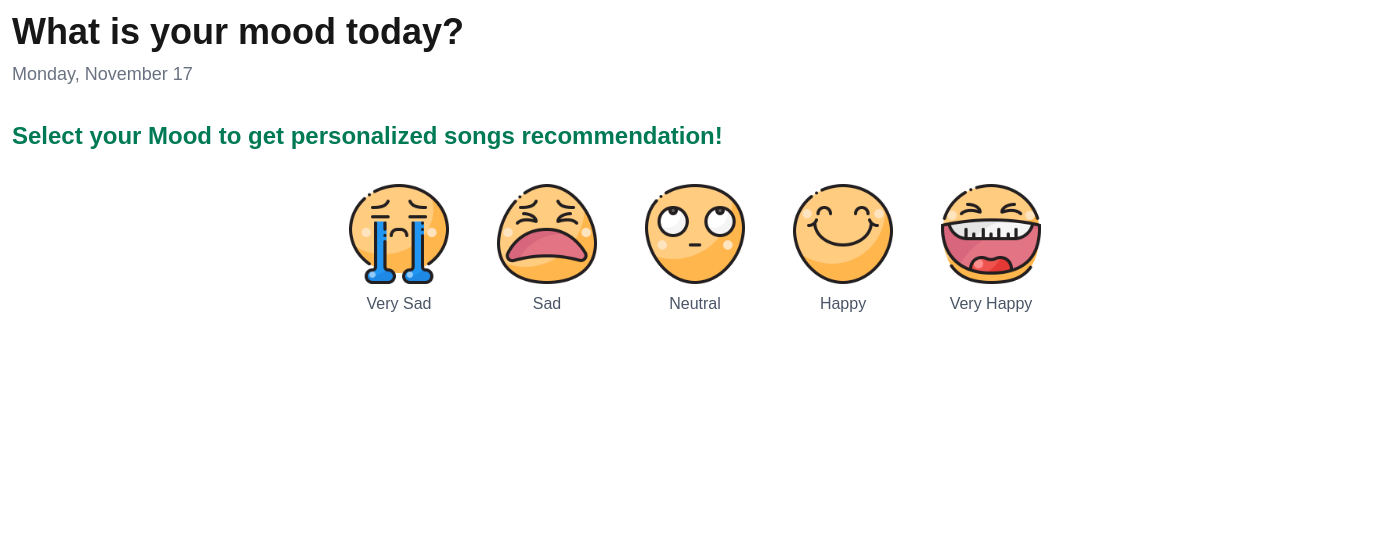
Scenario: MoodSelector component › After the user selects its mood... › ...it displays a confirmation step
What coordinates should you click on to do the following:
click the button "Sad"
I would click on:
 (547, 250)
Its box is [489, 176, 605, 324].
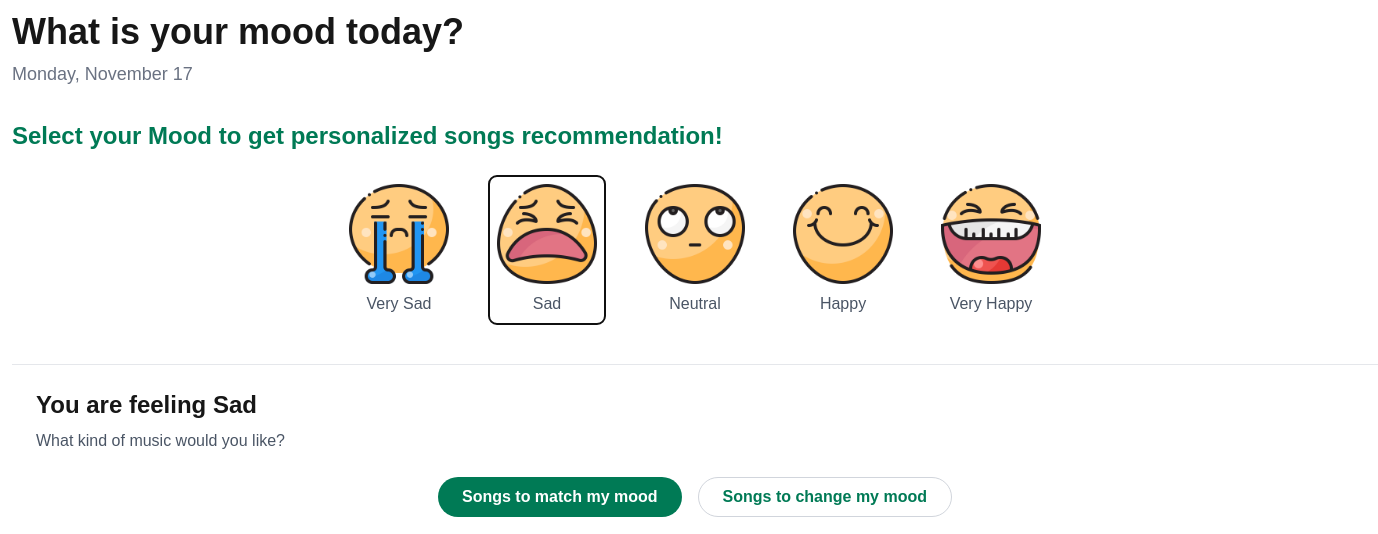
Now the heading "You are feeling Sad" is shown, box [36, 391, 257, 418]
Now the button "Songs to match my mood" is shown, box [438, 477, 682, 517]
Now the button "Songs to change my mood" is shown, box [698, 477, 952, 517]
